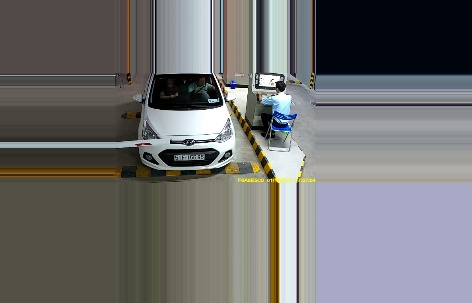plate: (173, 153, 205, 162)
